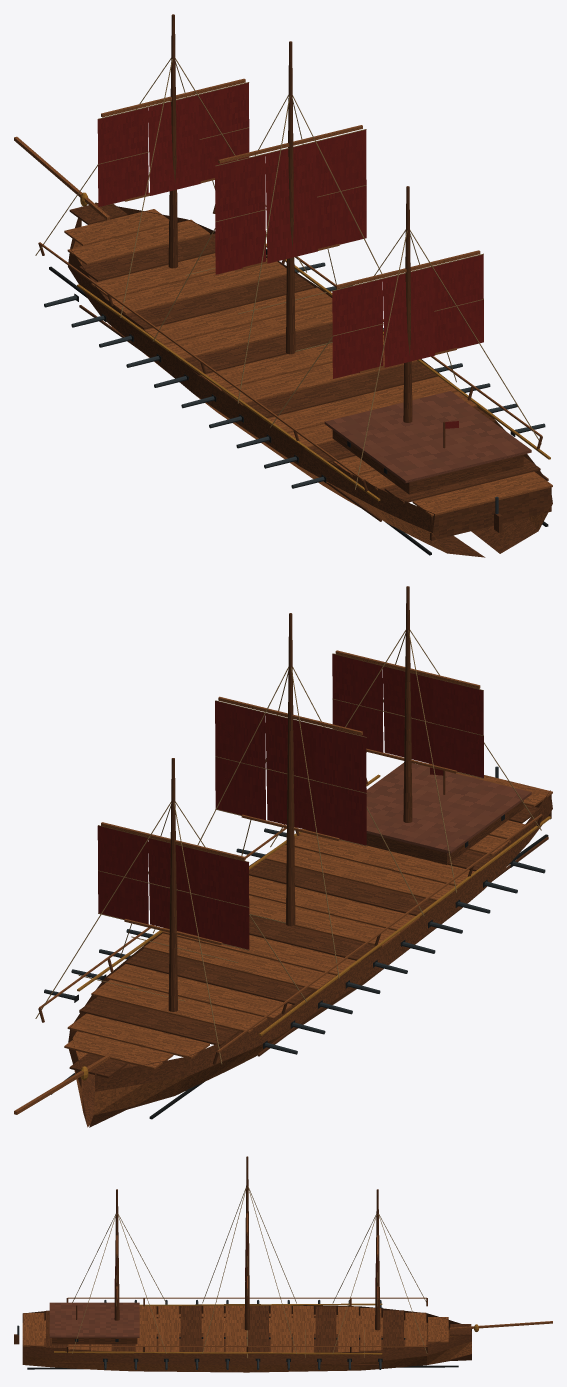
Rendered from KIT_ship_armada_galleon.gltf.
The picture shows the model from 3 angles, top to bottom: view 1: azimuth 30°, elevation 25°; view 2: azimuth 150°, elevation 25°; view 3: azimuth 270°, elevation 25°; orthographic projection. The views are drawn at different scales.
Visible parts, largest first — view 1: hull, sail_02, sail_03, sail_01; view 2: hull, sail_02, sail_01, sail_03; view 3: hull.
Part boxes in pixels (x1,y1,x2,y2): hull: (14,14,552,557); sail_02: (215,129,366,274); sail_03: (332,253,483,378); sail_01: (97,82,249,207); hull: (14,586,552,1127); sail_02: (215,700,366,846); sail_01: (97,825,249,950); sail_03: (332,653,483,778); hull: (22,1156,552,1372).
Bounding box in the file's own units: 10.79 × 14.97 × 35.98.
8 materials, 8 textured.
